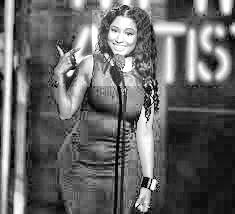happy: (93, 11, 152, 87)
